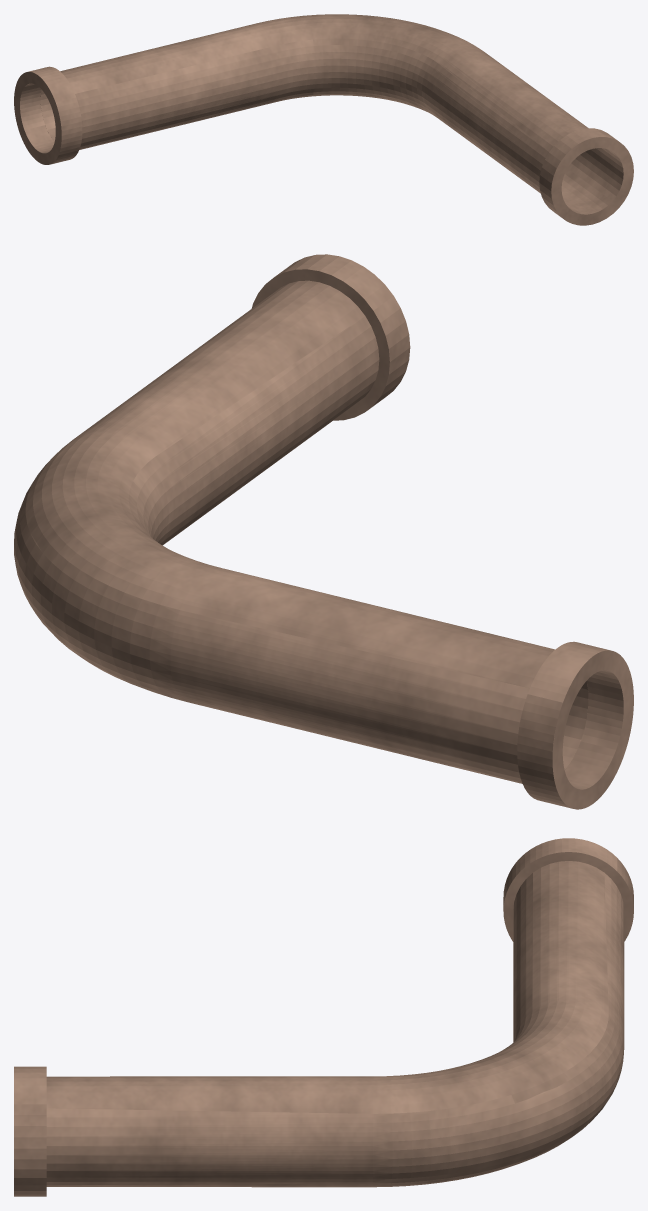
Rendered from Pipe curve 2.glb.
3 views of the same model, one above another, from view 1: azimuth 30°, elevation 25°; view 2: azimuth 150°, elevation 25°; view 3: azimuth 270°, elevation 25° (orthographic). The views are drawn at different scales.
Parts seen in each view (by area): view 1: Pipe thin turn WE; view 2: Pipe thin turn WE; view 3: Pipe thin turn WE.
Part boxes in pixels (left/top/right/bottom): Pipe thin turn WE: left=14, top=14, right=633, bottom=225; Pipe thin turn WE: left=14, top=254, right=633, bottom=809; Pipe thin turn WE: left=14, top=838, right=633, bottom=1196.
Bounding box in the file's own units: 13.51 × 2.85 × 13.51.
Materials: 1 (1 with a texture image).
